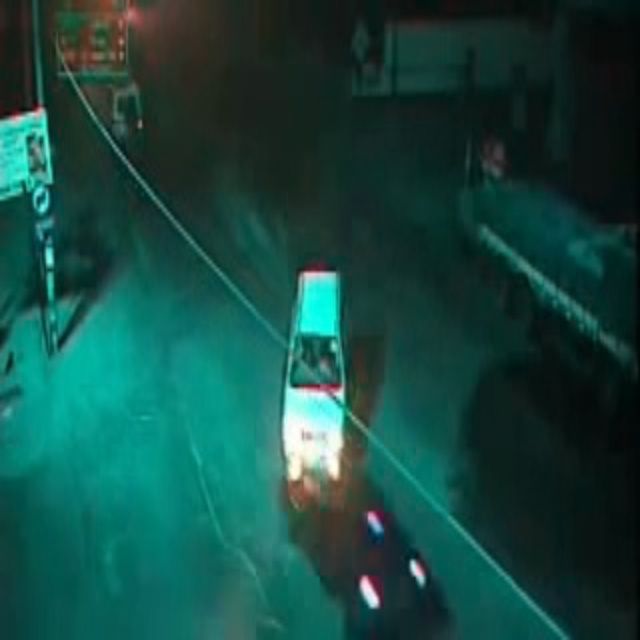acc: (246, 388, 445, 629)
